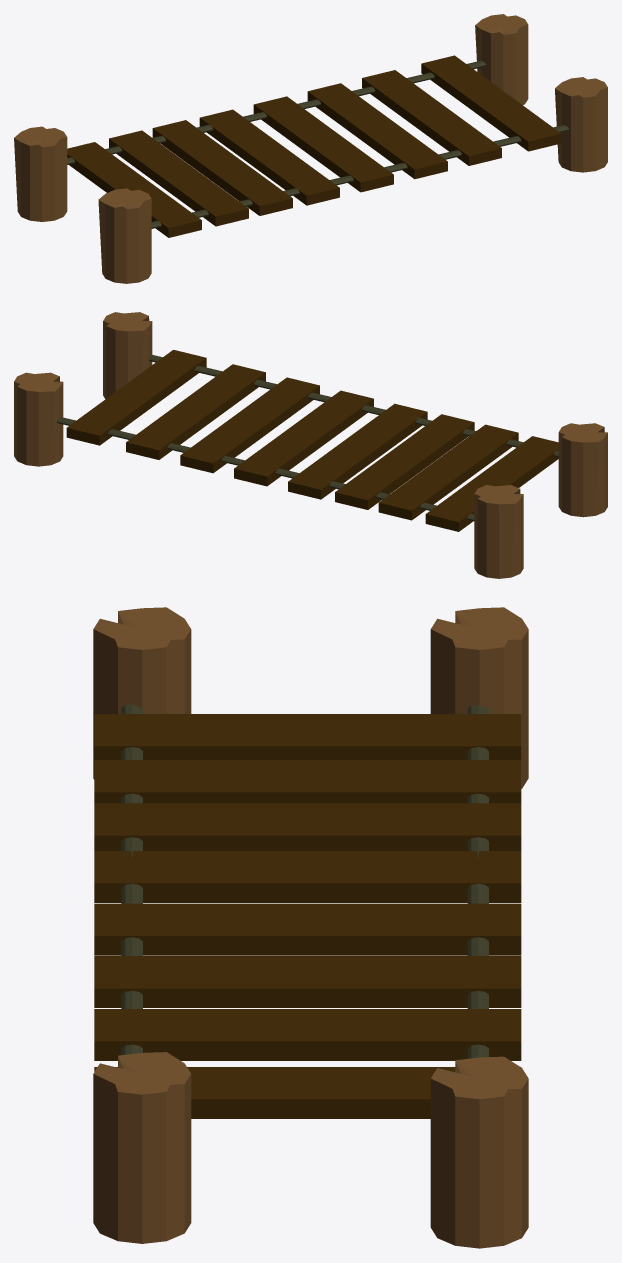
File: brug.fbx
3 views of the same model, one above another, from view 1: azimuth 30°, elevation 25°; view 2: azimuth 150°, elevation 25°; view 3: azimuth 270°, elevation 25° (orthographic). The views are drawn at different scales.
Visible parts, largest first — view 1: pCube8, pCube1, pCube4, pCube2, pCube7, pCube3, pCube5, pCylinder10, pCylinder7, pCylinder2, pCube6, pCylinder8 (+2 smaller); view 2: pCube8, pCube7, pCube1, pCube5, pCube4, pCube2, pCube3, pCylinder7, pCylinder10, pCylinder8, pCube6, pCylinder2 (+2 smaller); view 3: pCube2, pCube1, pCube3, pCube7, pCube4, pCube6, pCube5, pCylinder2, pCylinder8, pCube8, pCylinder10, pCylinder7 (+2 smaller).
Part boxes in pixels (x1,y1,x2,y2): pCube8: [421, 55, 561, 151]; pCube1: [307, 83, 447, 179]; pCube4: [152, 120, 292, 215]; pCube2: [253, 96, 393, 192]; pCube7: [362, 70, 501, 165]; pCube3: [199, 109, 339, 205]; pCube5: [109, 130, 248, 226]; pCylinder10: [14, 126, 67, 221]; pCylinder7: [98, 188, 151, 283]; pCylinder2: [555, 77, 607, 172]; pCube6: [67, 142, 201, 237]; pCylinder8: [475, 14, 528, 104]; pCube8: [66, 349, 206, 445]; pCube7: [126, 364, 265, 459]; pCube1: [180, 377, 319, 473]; pCube5: [378, 424, 518, 520]; pCube4: [335, 414, 474, 509]; pCube2: [234, 390, 373, 486]; pCube3: [288, 403, 427, 499]; pCylinder7: [558, 423, 607, 517]; pCylinder10: [474, 485, 523, 578]; pCylinder8: [14, 372, 63, 466]; pCube6: [425, 436, 558, 531]; pCylinder2: [103, 312, 152, 398]; pCube2: [94, 903, 521, 955]; pCube1: [94, 956, 521, 1007]; pCube3: [94, 851, 521, 902]; pCube7: [94, 1009, 521, 1060]; pCube4: [94, 803, 521, 850]; pCube6: [94, 714, 521, 759]; pCube5: [94, 760, 521, 803]; pCylinder2: [93, 1052, 191, 1243]; pCylinder8: [430, 1056, 528, 1248]; pCube8: [94, 1067, 455, 1118]; pCylinder10: [430, 607, 528, 788]; pCylinder7: [93, 607, 191, 779].
Bounding box in the file's own units: 8.11 × 1.15 × 3.03.
